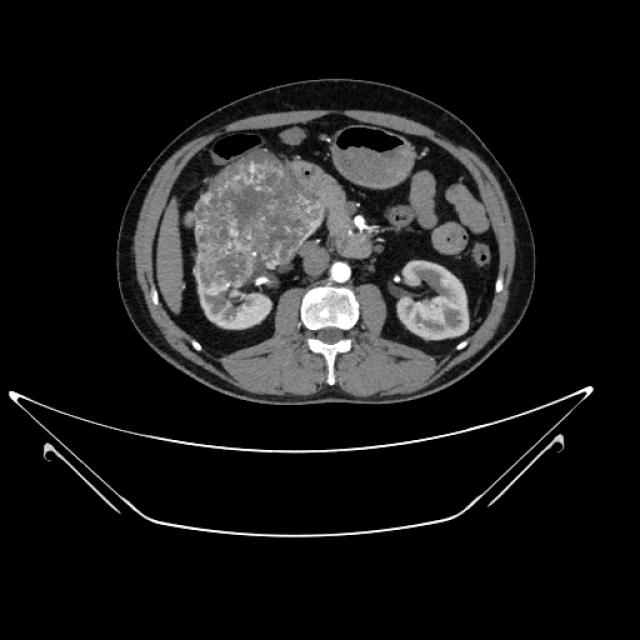Tumor: (198, 170, 316, 302)
